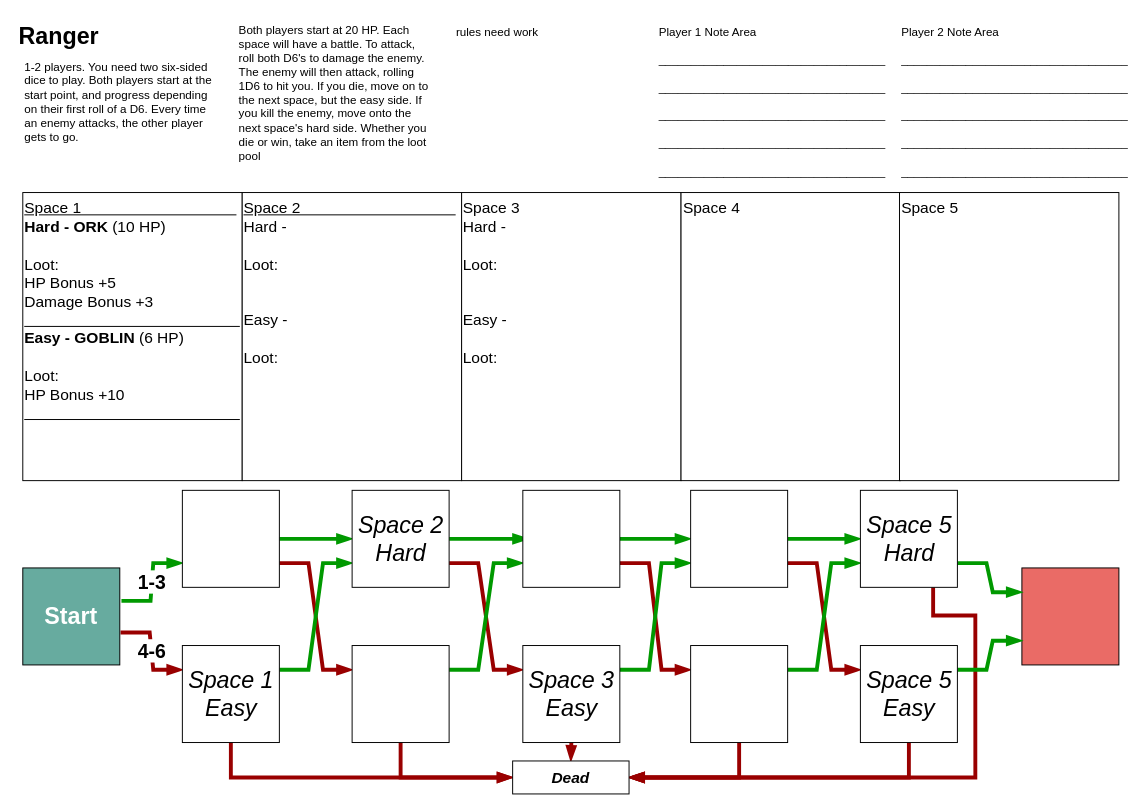
Some shapes in this 1147 by 811 pixel diagram are drawn without their labels. The shapes that lost their labels are listed below. From the top down, each one's centre as x and y in pixels, then its label:
At point (230, 538): "Space 1 Hard".
At point (571, 538): "Space 3 Hard".
At point (739, 538): "Space 4 Hard".
At point (1070, 616): "Finish".
At point (400, 694): "Space 2 Easy".
At point (739, 694): "Space 4 Easy".
